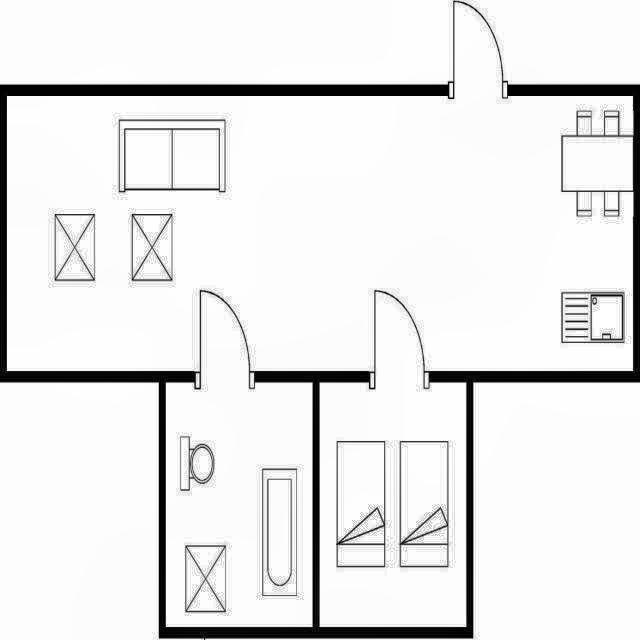room: (7, 96, 633, 371), (166, 382, 313, 627), (320, 382, 466, 627)
